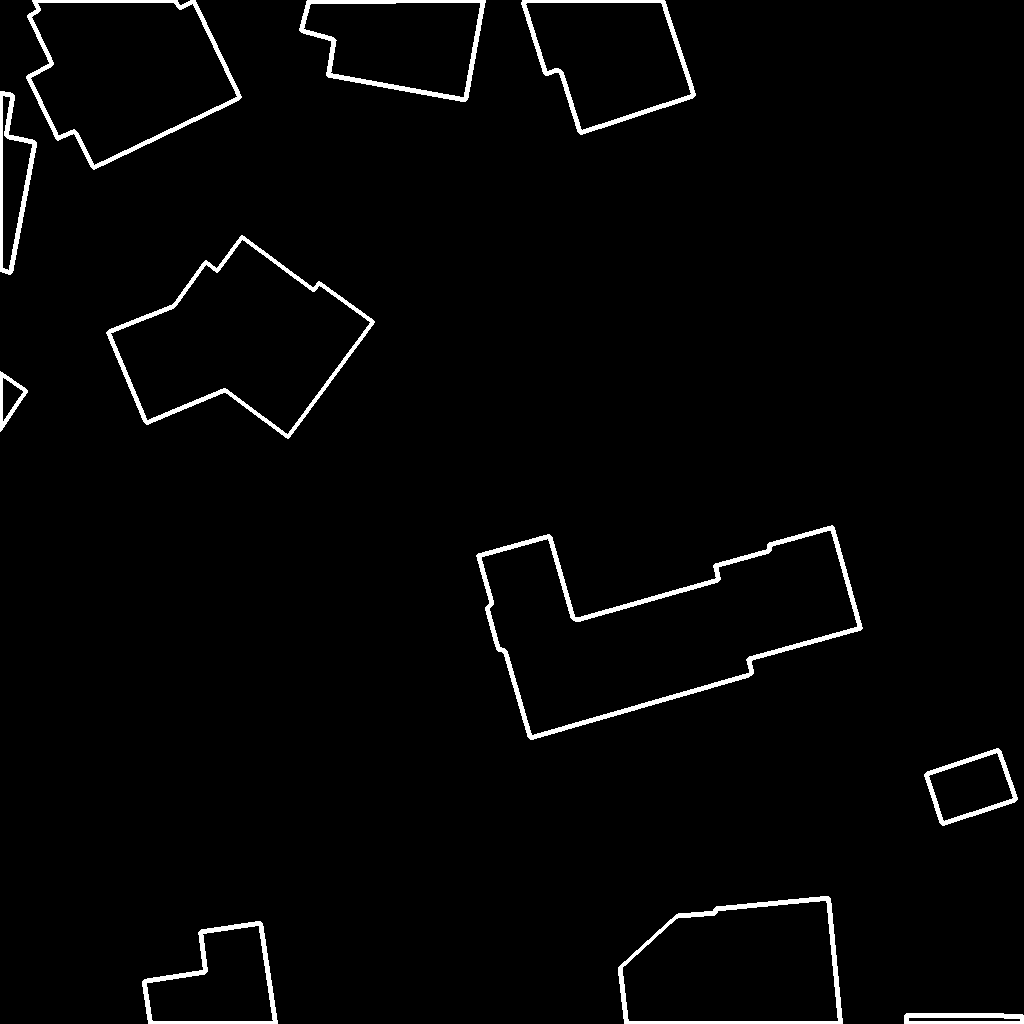building: (478, 527, 862, 739), (108, 237, 374, 438), (28, 0, 241, 169), (620, 898, 842, 1024), (523, 0, 695, 134), (301, 0, 485, 101), (144, 923, 277, 1024), (926, 750, 1017, 825), (0, 93, 36, 274), (0, 373, 27, 431), (906, 1015, 1024, 1024)
